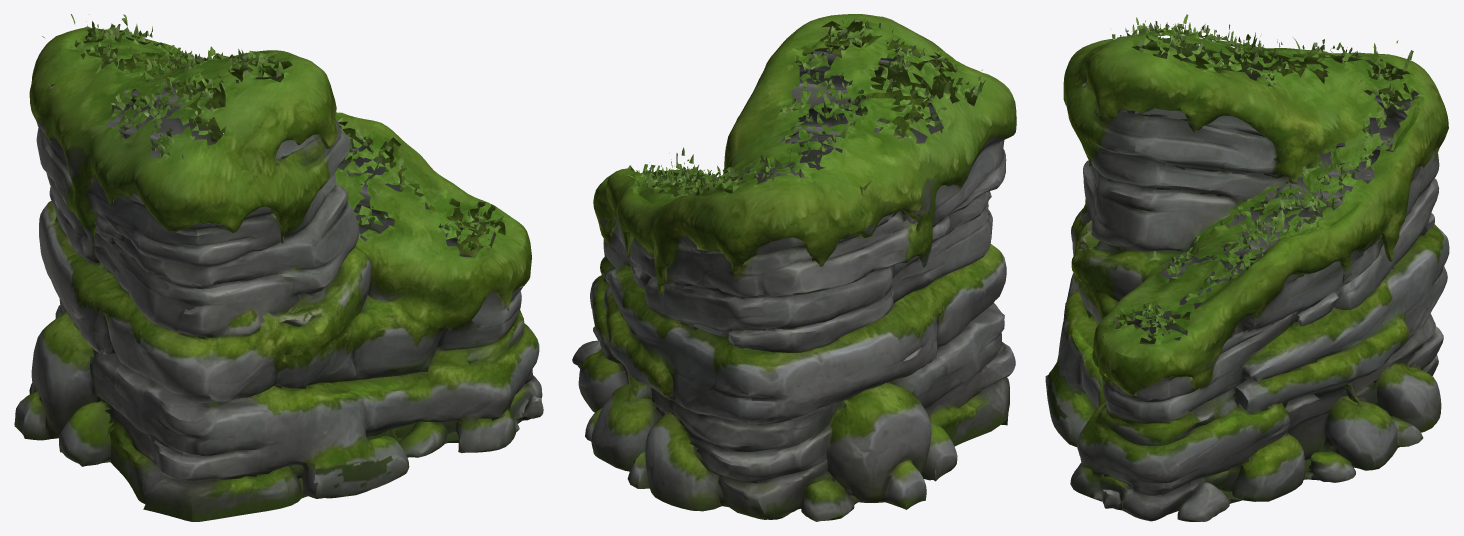
Rendered from meadows_cliff_corner.glb.
3 views of the same model, side by side, from view 1: azimuth 30°, elevation 25°; view 2: azimuth 150°, elevation 25°; view 3: azimuth 270°, elevation 25° (orthographic). The views are drawn at different scales.
Visible parts, largest first — view 1: Mesh_0; view 2: Mesh_0; view 3: Mesh_0.
Part boxes in pixels (x1,y1,x2,y2): Mesh_0: [14, 14, 543, 521]; Mesh_0: [572, 14, 1016, 521]; Mesh_0: [1045, 14, 1449, 521].
Size of the model in its own units: 1.9 by 1.71 by 1.7.
Materials: 1 (1 with a texture image).
